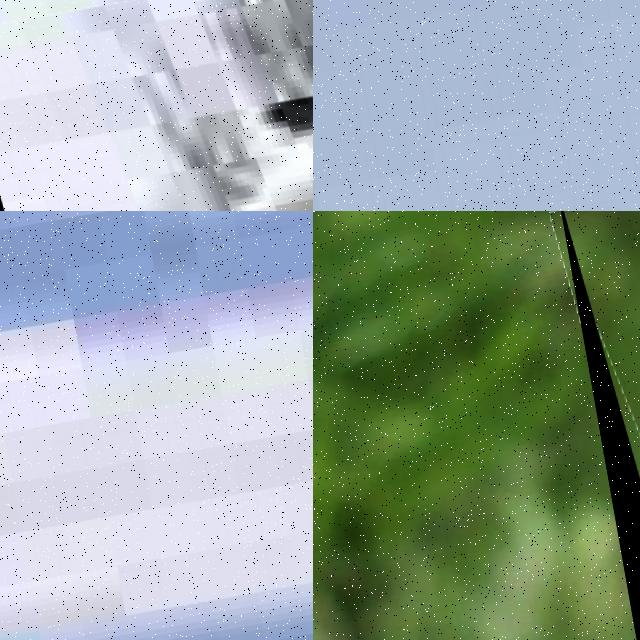drone: (0, 0, 313, 211), (556, 211, 640, 640)
